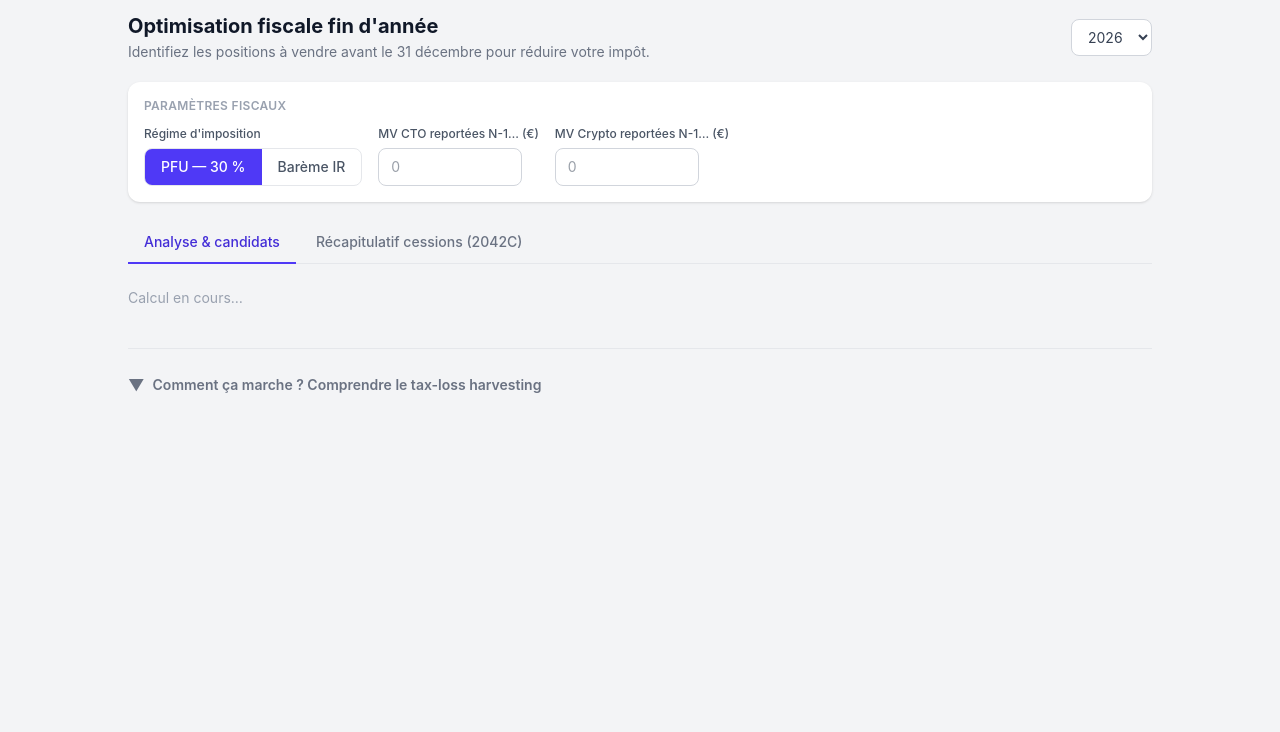
Scenario: TaxLossHarvestingPage › affiche le bouton export CSV dans l'onglet cessions
Click the button "Récapitulatif cessions (2042C)" at (419, 243), box [300, 222, 538, 264]
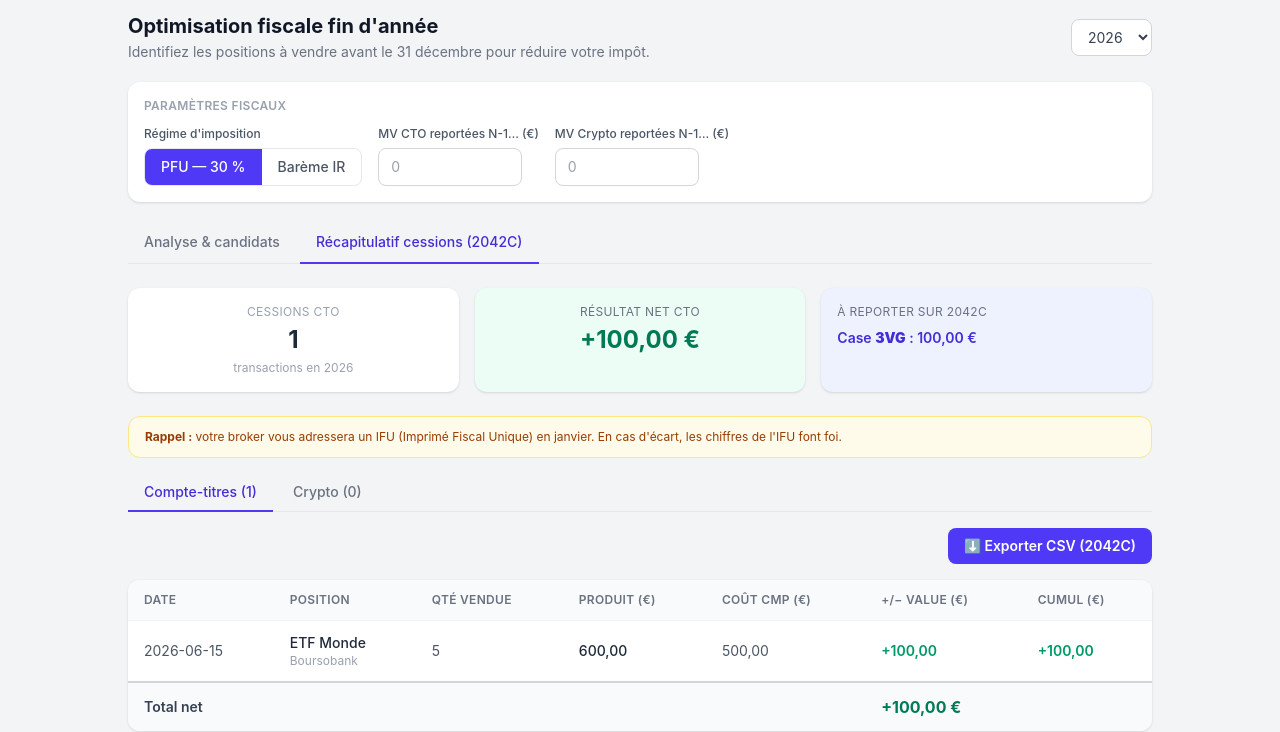
Check: the button with test id "export-cessions-csv-button" is shown, box [948, 528, 1152, 564]
